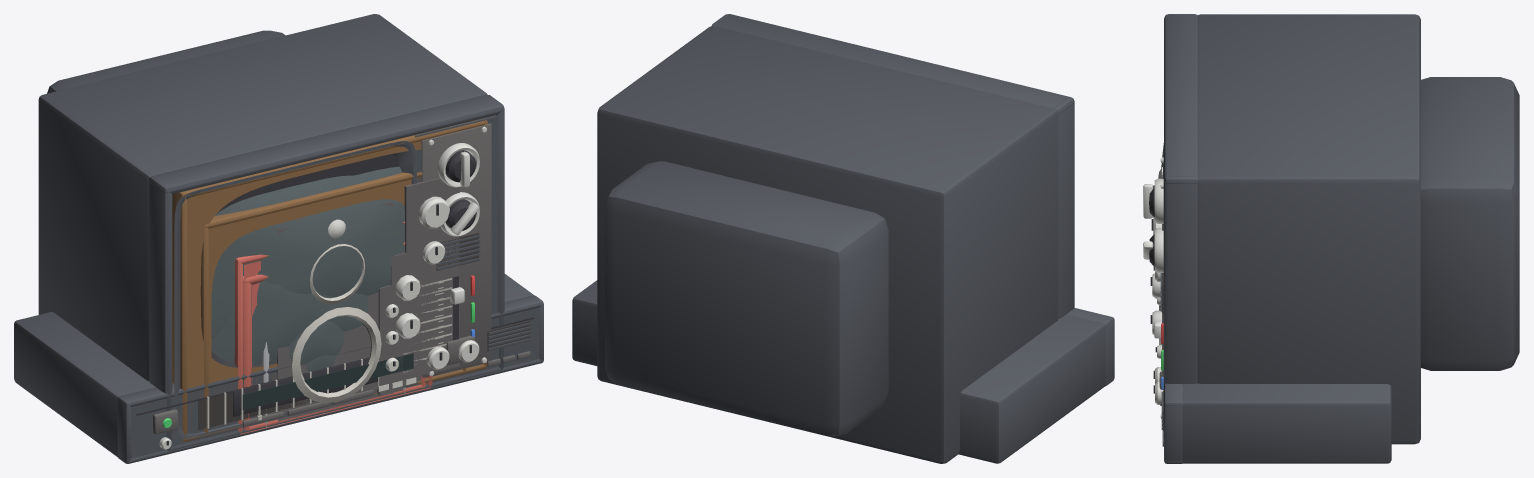
The model's file is tvs.glb.
3 views of the same model, side by side, from view 1: azimuth 30°, elevation 25°; view 2: azimuth 150°, elevation 25°; view 3: azimuth 270°, elevation 25° (orthographic). The views are drawn at different scales.
Visible parts, largest first — view 1: TvHero, TvConsole, Deck, TvWood, TvPort, Speaker, TvMon, TvBox; view 2: TvHero, Deck; view 3: TvHero, Deck.
Part boxes in pixels (x1=…): TvHero: x1=38, y1=14, x2=504, y2=451; TvConsole: x1=172, y1=118, x2=487, y2=441; Deck: x1=14, y1=274, x2=543, y2=463; TvWood: x1=200, y1=172, x2=466, y2=436; TvPort: x1=243, y1=242, x2=426, y2=430; Speaker: x1=277, y1=201, x2=393, y2=421; TvMon: x1=234, y1=221, x2=432, y2=434; TvBox: x1=262, y1=285, x2=405, y2=427; TvHero: x1=597, y1=14, x2=1074, y2=463; Deck: x1=572, y1=280, x2=1114, y2=463; TvHero: x1=1143, y1=14, x2=1519, y2=444; Deck: x1=1159, y1=371, x2=1391, y2=463.
Bounding box in the file's own units: 0.98 × 0.6 × 0.764.
